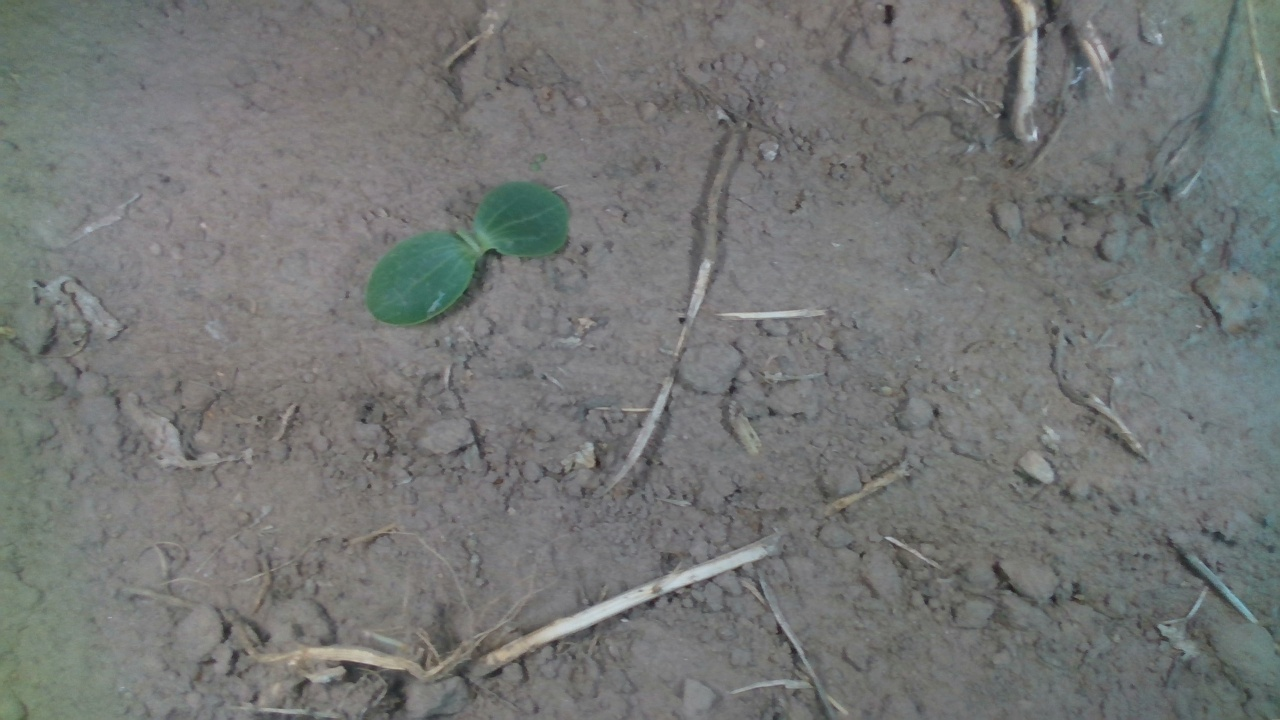crop: (362, 177, 572, 330)
